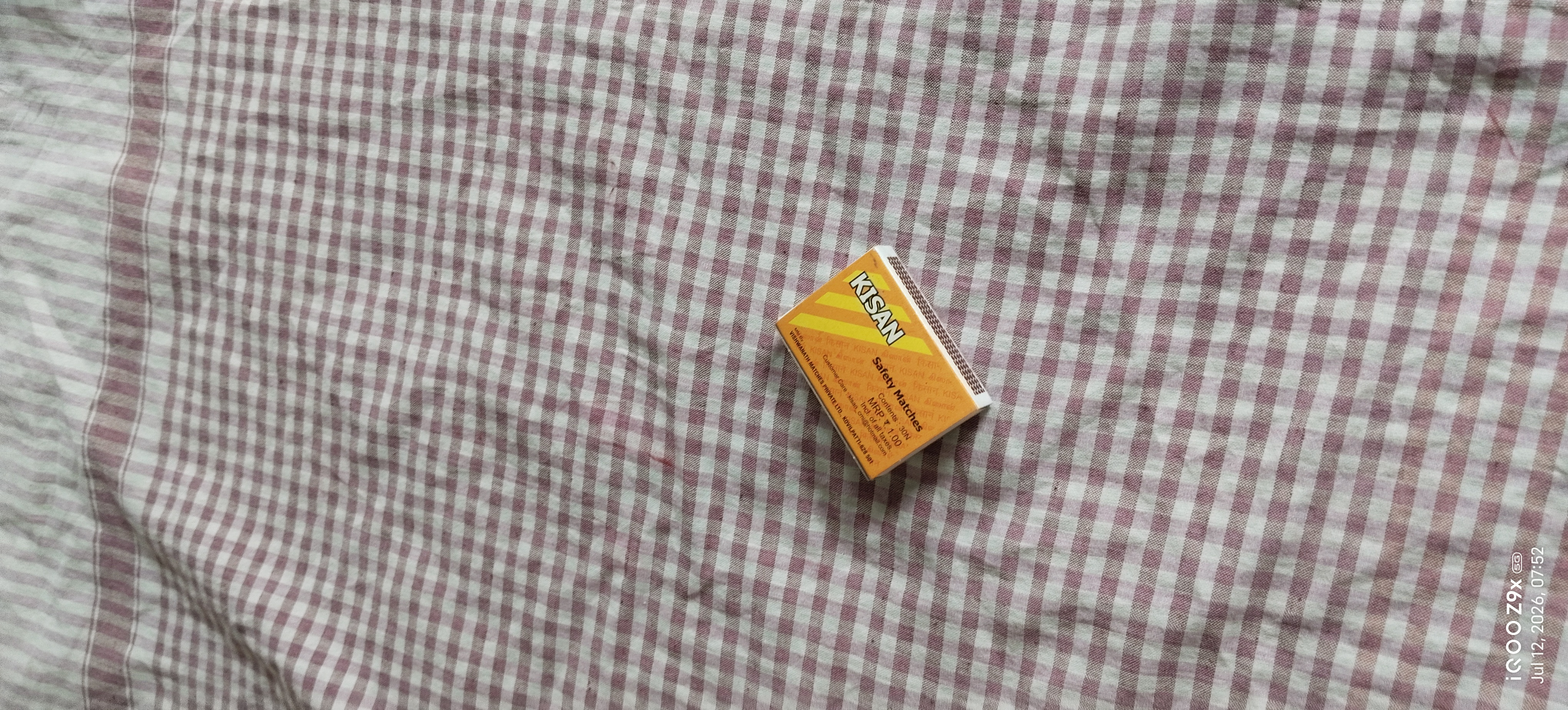matchbox: (758, 208, 1011, 511)
